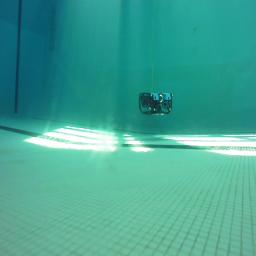front: (140, 92, 174, 115)
